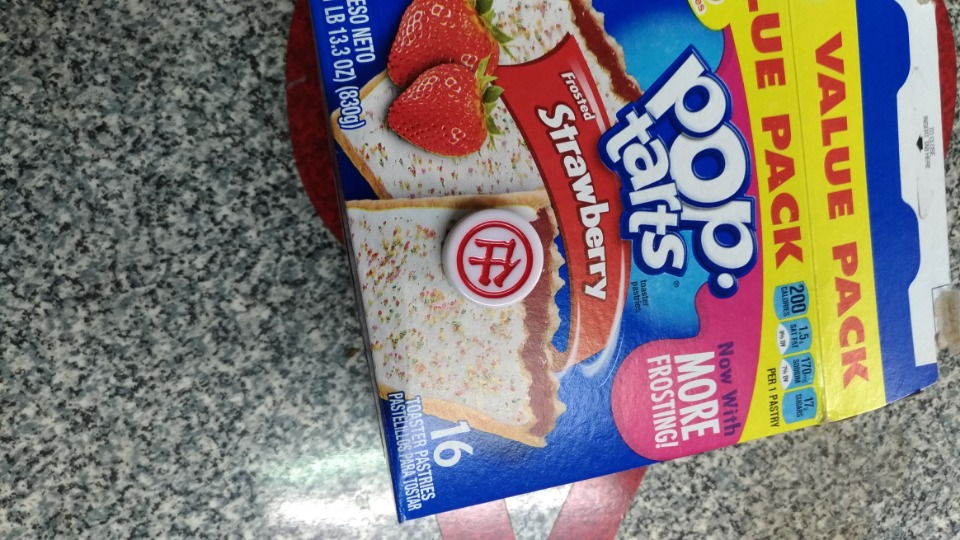r-advisor: (431, 199, 569, 315)
